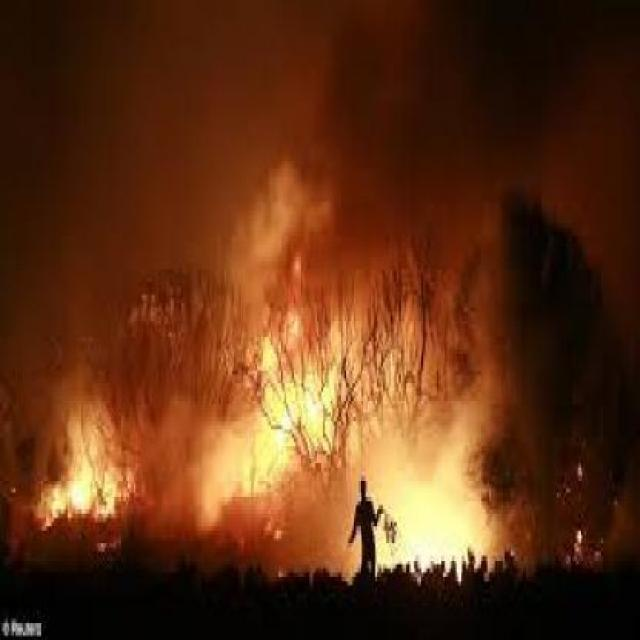Fire: (212, 323, 362, 507), (10, 423, 135, 534)
Smoke: (0, 0, 635, 276)
